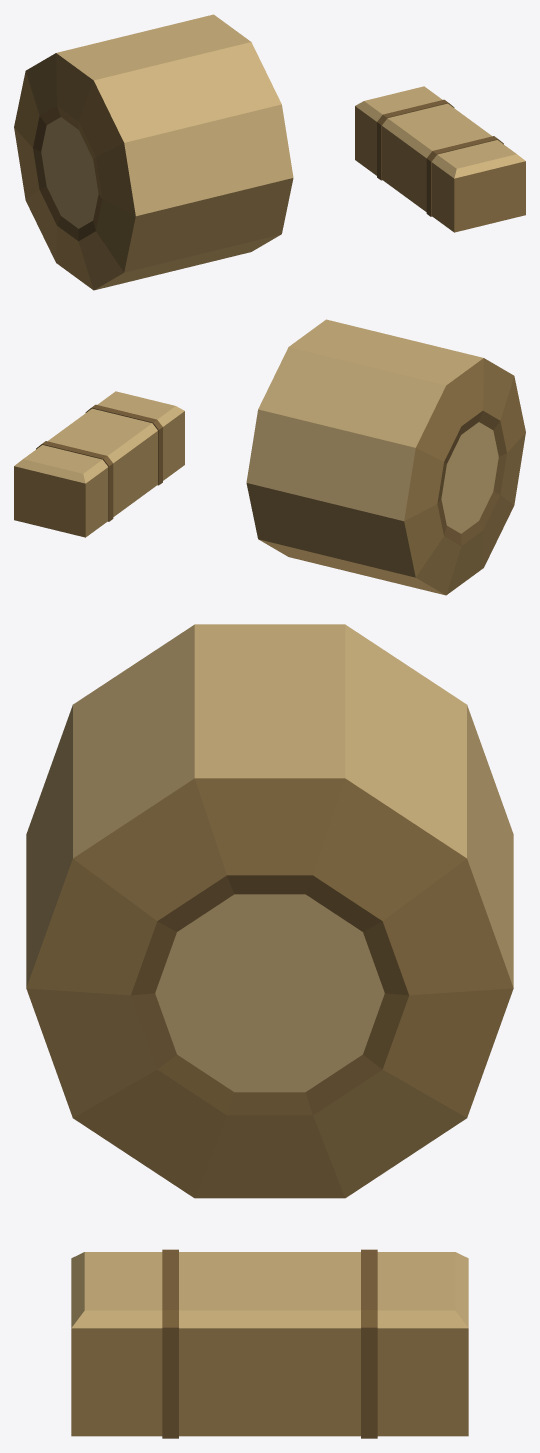
File: FMS_Mach_Demo_Bales.fbx
The picture shows the model from 3 angles, top to bottom: view 1: azimuth 30°, elevation 25°; view 2: azimuth 150°, elevation 25°; view 3: azimuth 270°, elevation 25°; orthographic projection. The views are drawn at different scales.
Visible parts, largest first — view 1: Bale_Round, Bale_Rect; view 2: Bale_Round, Bale_Rect; view 3: Bale_Round, Bale_Rect.
Boxes of the visible parts, left/top/right/bottom form: Bale_Round: left=14, top=14, right=293, bottom=290; Bale_Rect: left=355, top=86, right=525, bottom=232; Bale_Round: left=246, top=319, right=525, bottom=595; Bale_Rect: left=14, top=391, right=184, bottom=537; Bale_Round: left=26, top=624, right=513, bottom=1198; Bale_Rect: left=71, top=1249, right=468, bottom=1438.
Size of the model in its own units: 2.86 by 1.4 by 1.47.
Materials: 1 (1 with a texture image).
